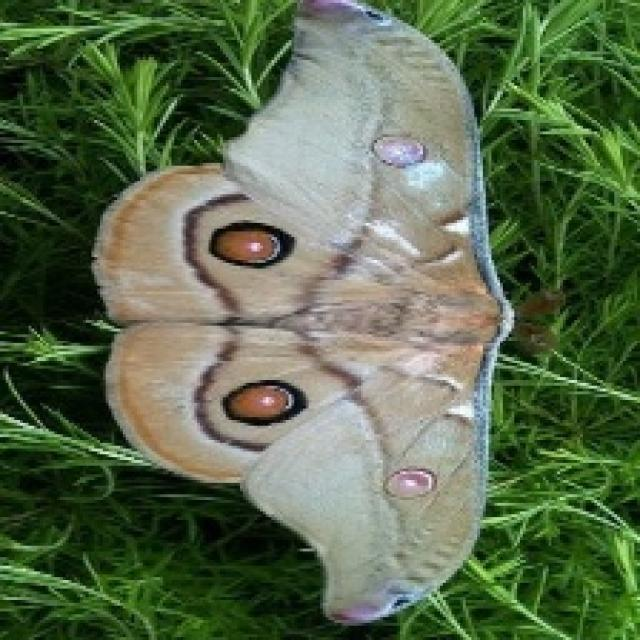butterfly: (89, 0, 514, 626)
